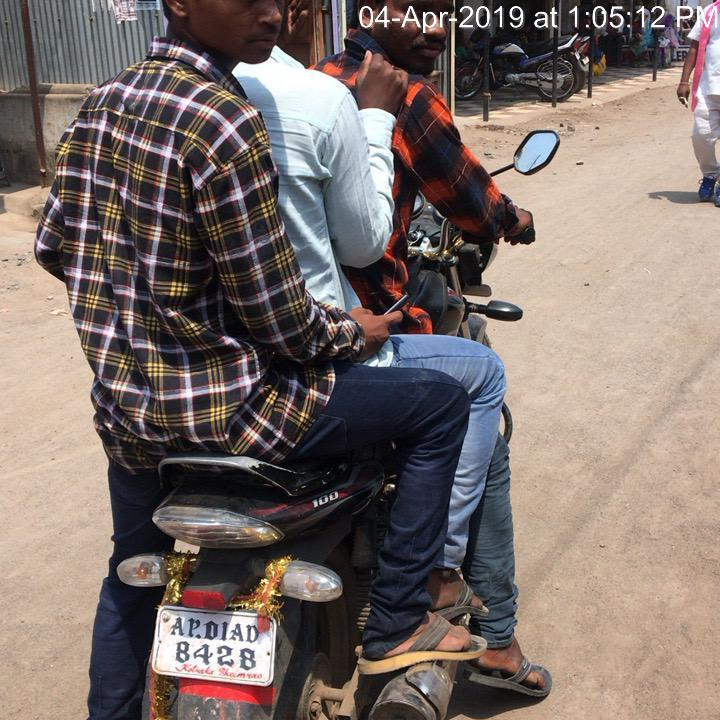plate: (141, 594, 289, 693)
